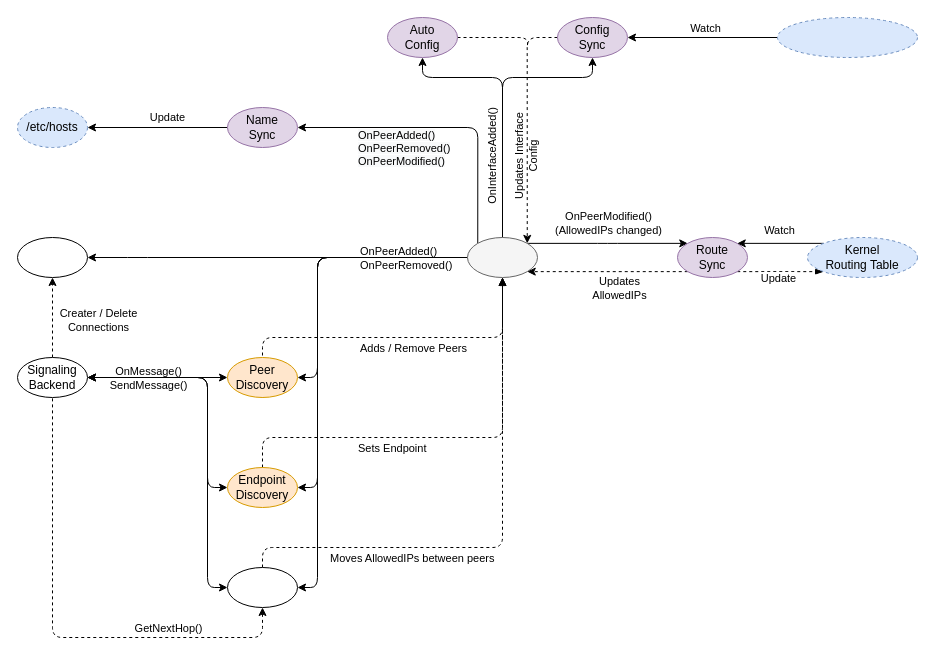
This 935x663 diagram has some shape labels left out. The centre of each missing label's shape, as x and y in pixels:
/etc/wireguard/*.conf: the point at 847,37
Connection Manager: the point at 52,257
Router: the point at 262,587
Watcher: the point at 502,257
